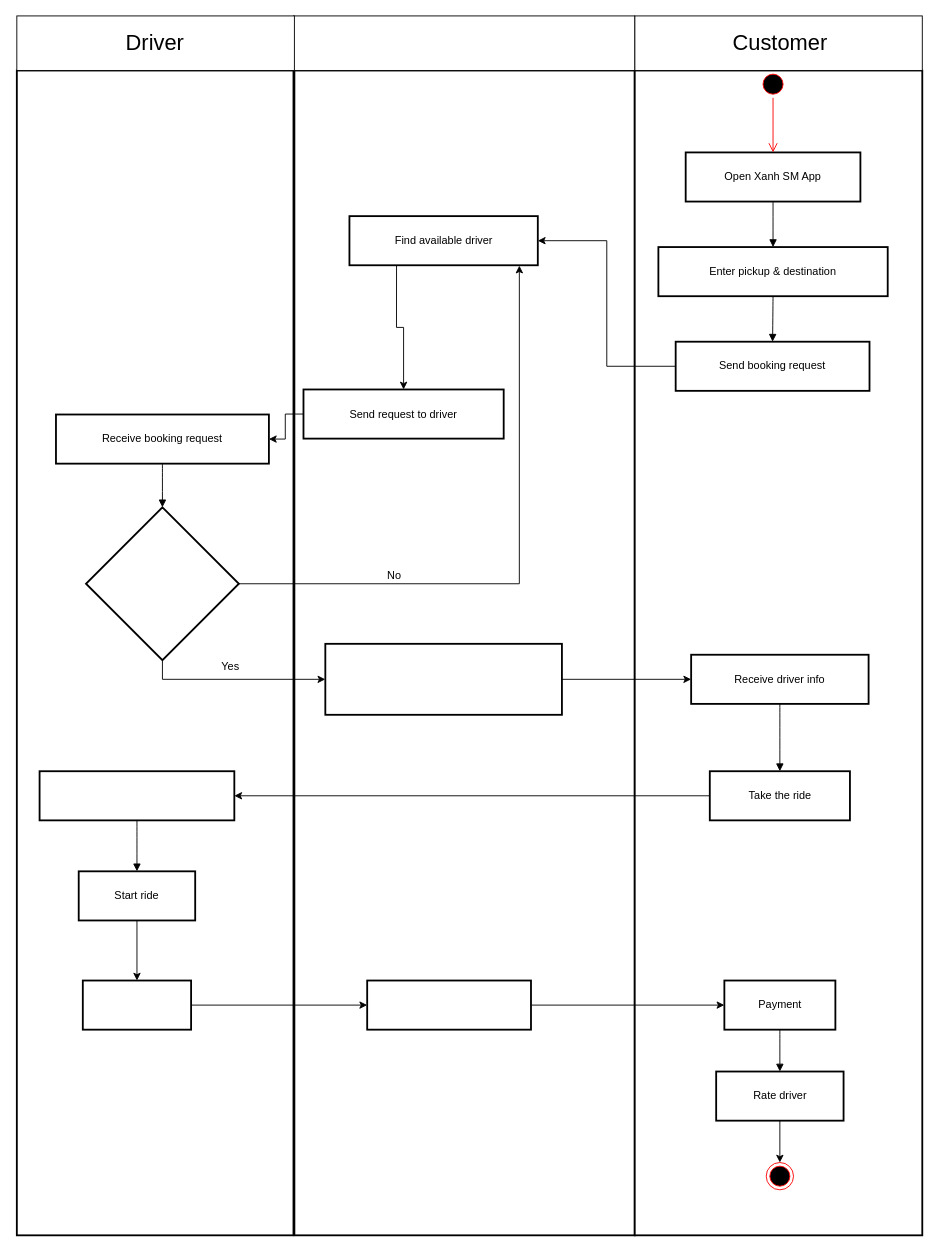
Some shapes in this 938 by 1259 pixel diagram are drawn without their labels. Here are the shapes that lost their labels. From the top down, the centre of each, then its label:
At [464,43]: "App".
At [162,583]: "Accept request?".
At [443,678]: "Assign driver & notify customer".
At [136,795]: "Go to pickup location".
At [136,1004]: "End ride".
At [448,1004]: "Process payment".
